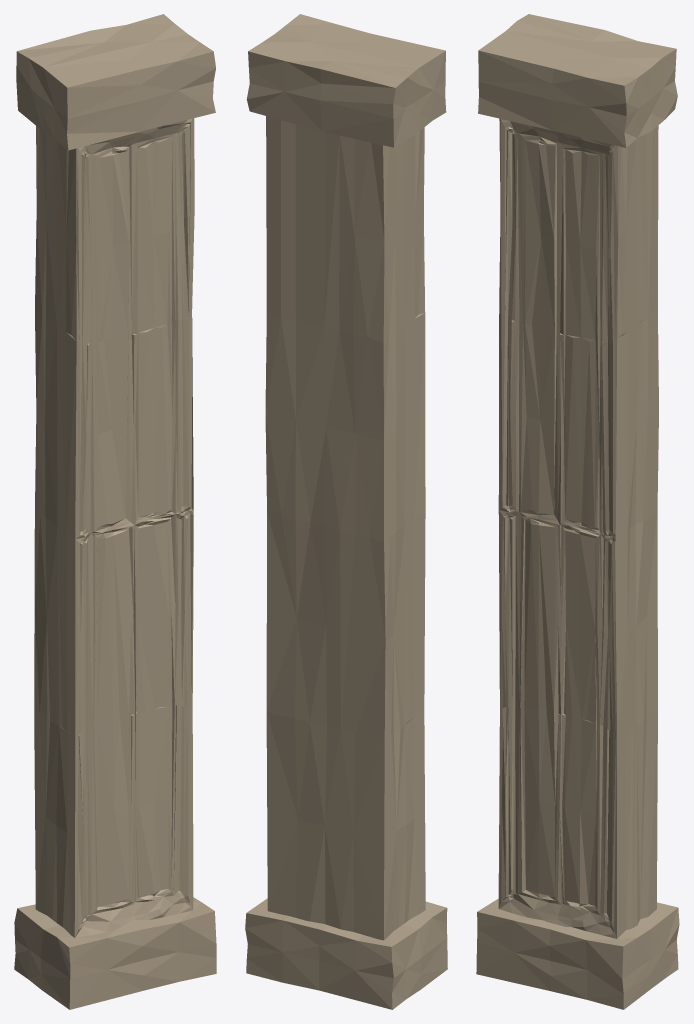
File: SM_Pilaster.fbx
3 views of the same model, side by side, from view 1: azimuth 30°, elevation 25°; view 2: azimuth 150°, elevation 25°; view 3: azimuth 330°, elevation 25° (orthographic).
Parts seen in each view (by area): view 1: SM_Pilaster; view 2: SM_Pilaster; view 3: SM_Pilaster.
Part boxes in pixels (x1,y1,x2,y2): SM_Pilaster: (14, 14, 216, 1009); SM_Pilaster: (245, 14, 447, 1009); SM_Pilaster: (476, 14, 679, 1009).
Size of the model in its own units: 1.02 by 6.01 by 0.6681.
